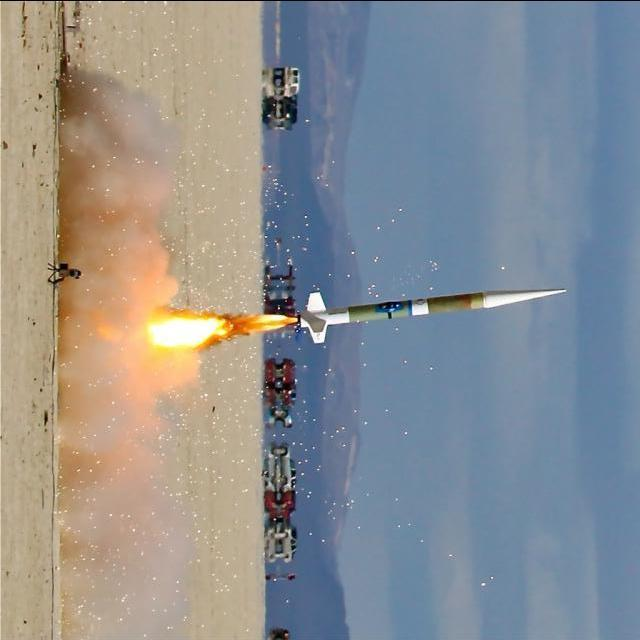Missile: (296, 279, 570, 341)
